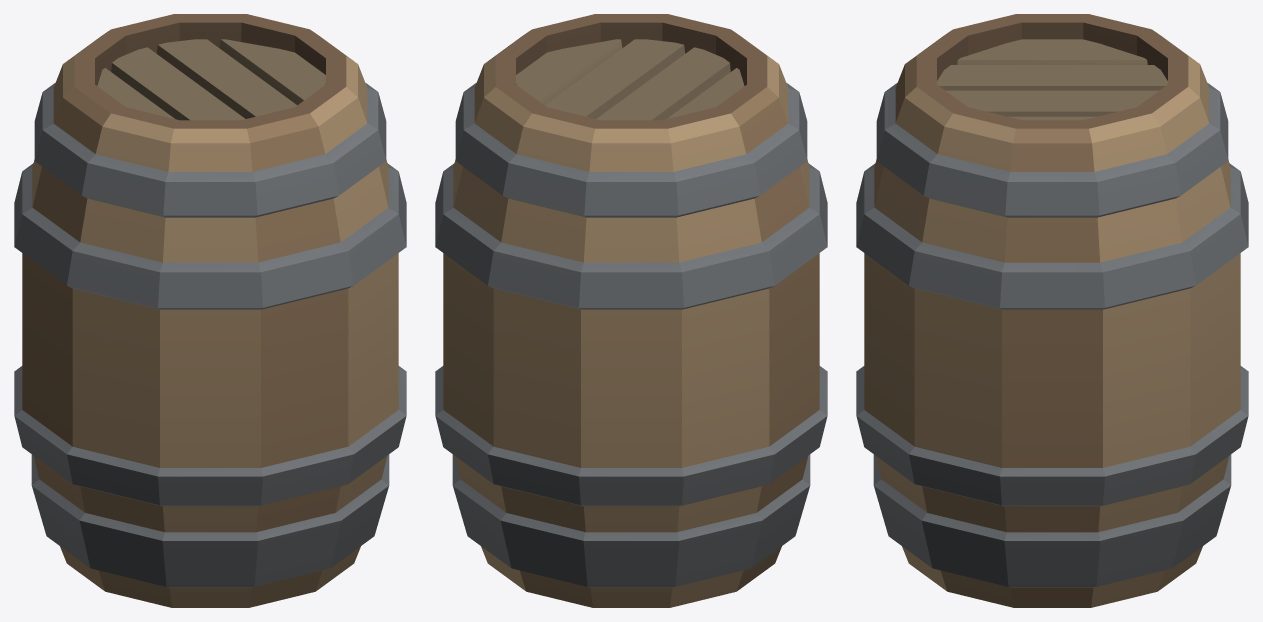
File: barrel.glb
3 views of the same model, side by side, from view 1: azimuth 30°, elevation 25°; view 2: azimuth 150°, elevation 25°; view 3: azimuth 270°, elevation 25° (orthographic).
Parts seen in each view (by area): view 1: barrel; view 2: barrel; view 3: barrel.
Boxes of the visible parts, x1=… form: barrel: x1=14, y1=14, x2=406, y2=607; barrel: x1=435, y1=14, x2=827, y2=607; barrel: x1=856, y1=14, x2=1248, y2=607.
Bounding box in the file's own units: 0.6722 × 0.9 × 0.6722.
